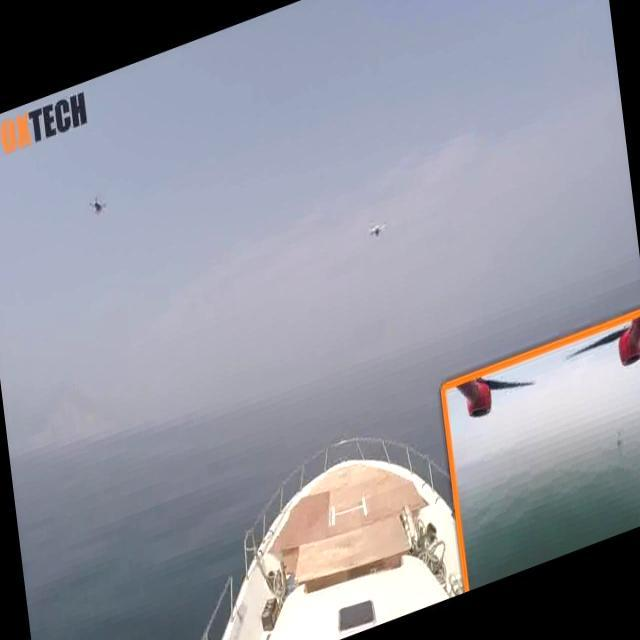drone: (84, 182, 106, 222), (368, 218, 388, 244)
